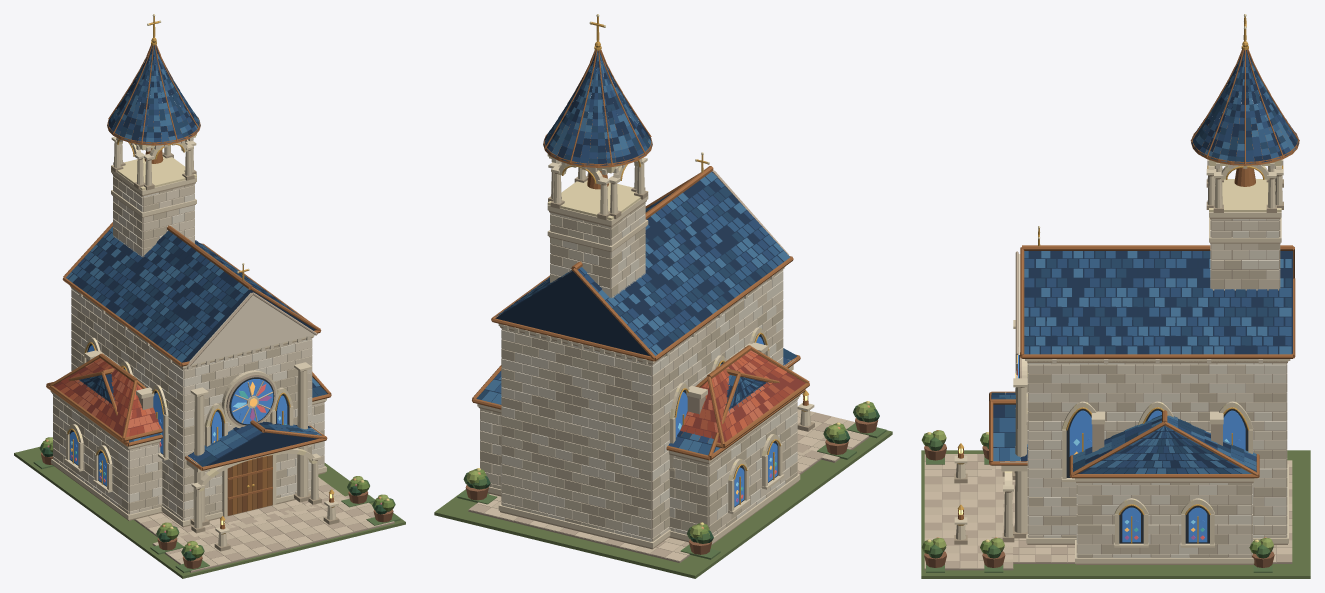
The model's file is chapel-nivel-6.glb.
3 renders of one model, left to right at view 1: azimuth 30°, elevation 25°; view 2: azimuth 150°, elevation 25°; view 3: azimuth 270°, elevation 25°, orthographic. The views are drawn at different scales.
Visible parts, largest first — view 1: Capela 06 #e6d7ba, Capela 06 #20354f, Capela 06 #e8dcc5, Capela 06 #ded1b9, Capela 06 #cec1a8, Capela 06 #a76e42, Capela 06 #eae1ce, Capela 06 #355c80, Capela 06 #6c7d4e, Capela 06 #284763, Capela 06 #c1af99, Capela 06 #426e90 (+20 smaller); view 2: Capela 06 #20354f, Capela 06 #ded1b9, Capela 06 #cec1a8, Capela 06 #eae1ce, Capela 06 #e8dcc5, Capela 06 #a76e42, Capela 06 #e6d7ba, Capela 06 #6c7d4e, Capela 06 #355c80, Capela 06 #426e90, Capela 06 #284763, Capela 06 #2d4d71 (+17 smaller); view 3: Capela 06 #20354f, Capela 06 #e6d7ba, Capela 06 #ded1b9, Capela 06 #eae1ce, Capela 06 #e8dcc5, Capela 06 #cec1a8, Capela 06 #284763, Capela 06 #a76e42, Capela 06 #426e90, Capela 06 #355c80, Capela 06 #6c7d4e, Capela 06 #2d4d71 (+14 smaller).
Part boxes in pixels (<box>): Capela 06 #e6d7ba: <box>50,136,338,546</box>; Capela 06 #20354f: <box>68,45,319,466</box>; Capela 06 #e8dcc5: <box>53,182,324,520</box>; Capela 06 #ded1b9: <box>53,136,324,520</box>; Capela 06 #cec1a8: <box>53,175,324,517</box>; Capela 06 #a76e42: <box>46,44,334,529</box>; Capela 06 #eae1ce: <box>59,192,324,513</box>; Capela 06 #355c80: <box>71,46,320,448</box>; Capela 06 #6c7d4e: <box>14,446,405,578</box>; Capela 06 #284763: <box>81,45,327,466</box>; Capela 06 #c1af99: <box>86,292,374,571</box>; Capela 06 #426e90: <box>66,45,321,455</box>; Capela 06 #20354f: <box>482,55,786,452</box>; Capela 06 #ded1b9: <box>480,157,797,538</box>; Capela 06 #cec1a8: <box>480,202,797,541</box>; Capela 06 #eae1ce: <box>480,214,797,541</box>; Capela 06 #e8dcc5: <box>480,204,797,536</box>; Capela 06 #a76e42: <box>472,50,809,460</box>; Capela 06 #e6d7ba: <box>477,157,814,547</box>; Capela 06 #6c7d4e: <box>434,430,892,578</box>; Capela 06 #355c80: <box>494,51,783,455</box>; Capela 06 #426e90: <box>482,50,789,452</box>; Capela 06 #284763: <box>476,51,796,438</box>; Capela 06 #2d4d71: <box>494,53,789,452</box>; Capela 06 #20354f: <box>991,51,1297,473</box>; Capela 06 #e6d7ba: <box>954,165,1288,563</box>; Capela 06 #ded1b9: <box>1025,159,1290,557</box>; Capela 06 #eae1ce: <box>1027,219,1287,557</box>; Capela 06 #e8dcc5: <box>1018,219,1287,557</box>; Capela 06 #cec1a8: <box>1027,219,1287,557</box>; Capela 06 #284763: <box>991,50,1298,473</box>; Capela 06 #a76e42: <box>958,49,1299,519</box>; Capela 06 #426e90: <box>993,55,1295,473</box>; Capela 06 #355c80: <box>991,50,1292,473</box>; Capela 06 #6c7d4e: <box>921,450,1310,578</box>; Capela 06 #2d4d71: <box>991,51,1298,473</box>.
Bounding box in the file's own units: 9.75 × 18.16 × 12.76.
